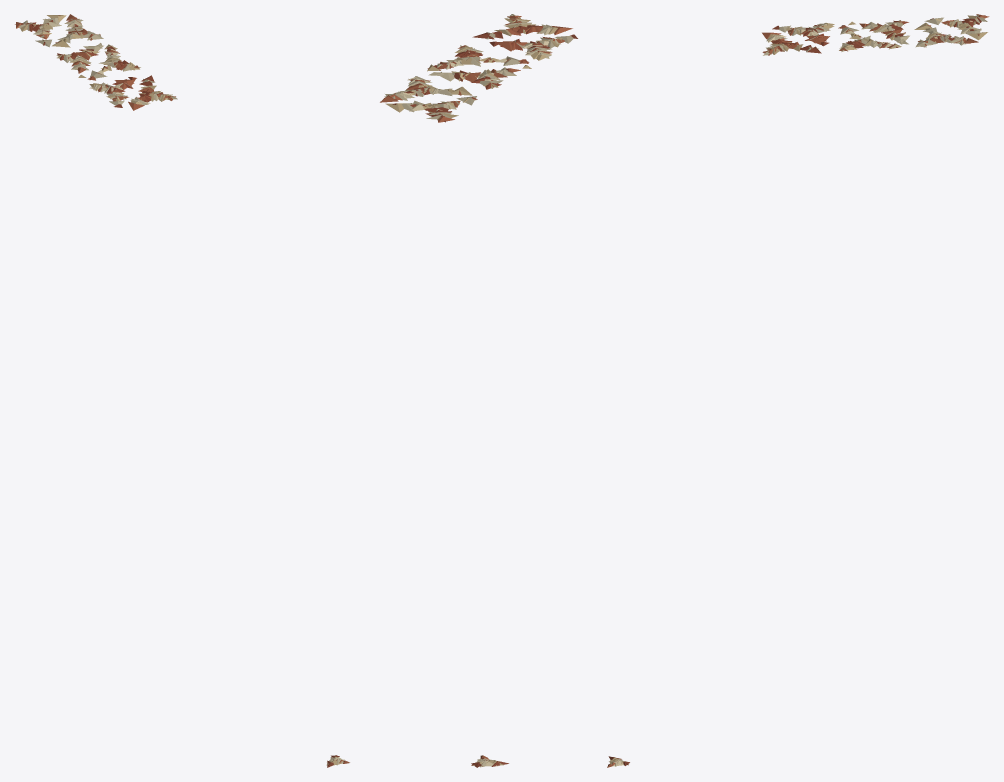
File: dam_domes_fin_east_detail2.glb
The picture shows the model from 3 angles, left to right: view 1: azimuth 30°, elevation 25°; view 2: azimuth 150°, elevation 25°; view 3: azimuth 270°, elevation 25°; orthographic projection. The views are drawn at different scales.
Parts seen in each view (by area): view 1: dam_domes_fin_east_detail2; view 2: dam_domes_fin_east_detail2; view 3: dam_domes_fin_east_detail2.
Boxes of the visible parts, left/top/right/bottom form: dam_domes_fin_east_detail2: left=15, top=14, right=349, bottom=767; dam_domes_fin_east_detail2: left=380, top=14, right=577, bottom=767; dam_domes_fin_east_detail2: left=607, top=14, right=989, bottom=767.
Size of the model in its own units: 4.96 by 19.36 by 9.94.
